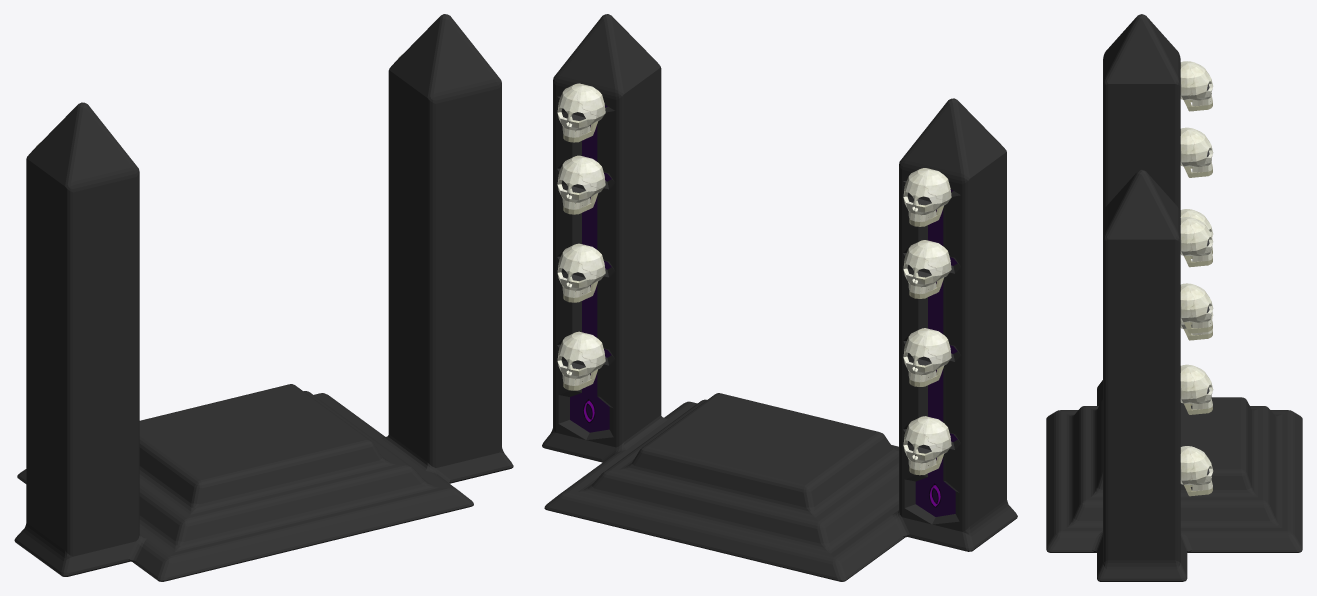
File: altar.glb
3 renders of one model, left to right at view 1: azimuth 30°, elevation 25°; view 2: azimuth 150°, elevation 25°; view 3: azimuth 270°, elevation 25°, orthographic. The views are drawn at different scales.
Parts seen in each view (by area): view 1: base; view 2: base, skull_up_right_4, skull_up_left_4, skull_up_right_1, skull_up_left_2, skull_up_left_1, skull_up_left_3, skull_up_right_2, skull_up_right_3; view 3: base, skull_up_right_4, skull_up_left_3, skull_up_left_2, skull_up_right_3, skull_up_left_1, skull_up_left_4.
Part boxes in pixels (x1,y1,x2,y2): base: (14,14,513,581); base: (542,14,1017,581); skull_up_right_4: (903,168,951,221); skull_up_left_4: (557,83,605,137); skull_up_right_1: (903,416,951,470); skull_up_left_2: (557,243,605,297); skull_up_left_1: (557,331,605,385); skull_up_left_3: (557,155,605,209); skull_up_right_2: (903,328,951,382); skull_up_right_3: (903,240,951,294); base: (1046,14,1302,581); skull_up_right_4: (1180,61,1213,106); skull_up_left_3: (1180,283,1213,328); skull_up_left_2: (1180,364,1213,409); skull_up_right_3: (1180,127,1213,172); skull_up_left_1: (1180,446,1213,490); skull_up_left_4: (1180,217,1213,261).
Size of the model in its own units: 14.09 by 13.3 by 7.86.
6 materials, 2 textured.
